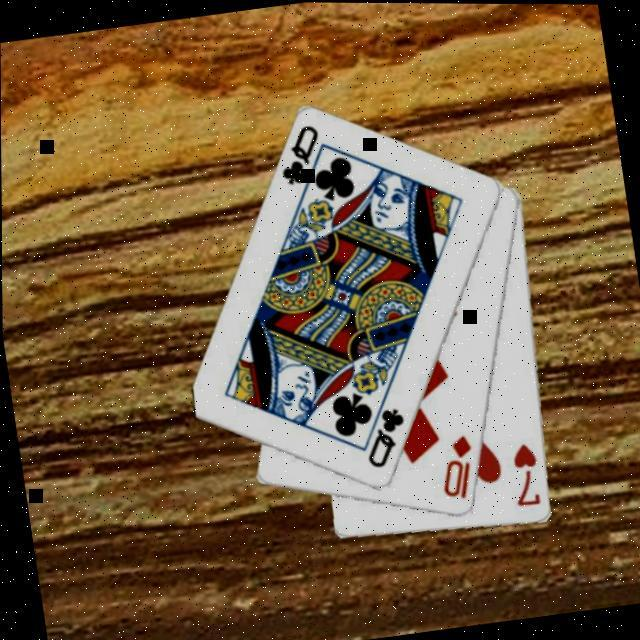10D: (429, 429, 478, 502)
7H: (504, 436, 544, 509)
QC: (355, 400, 411, 470), (270, 118, 326, 188)
